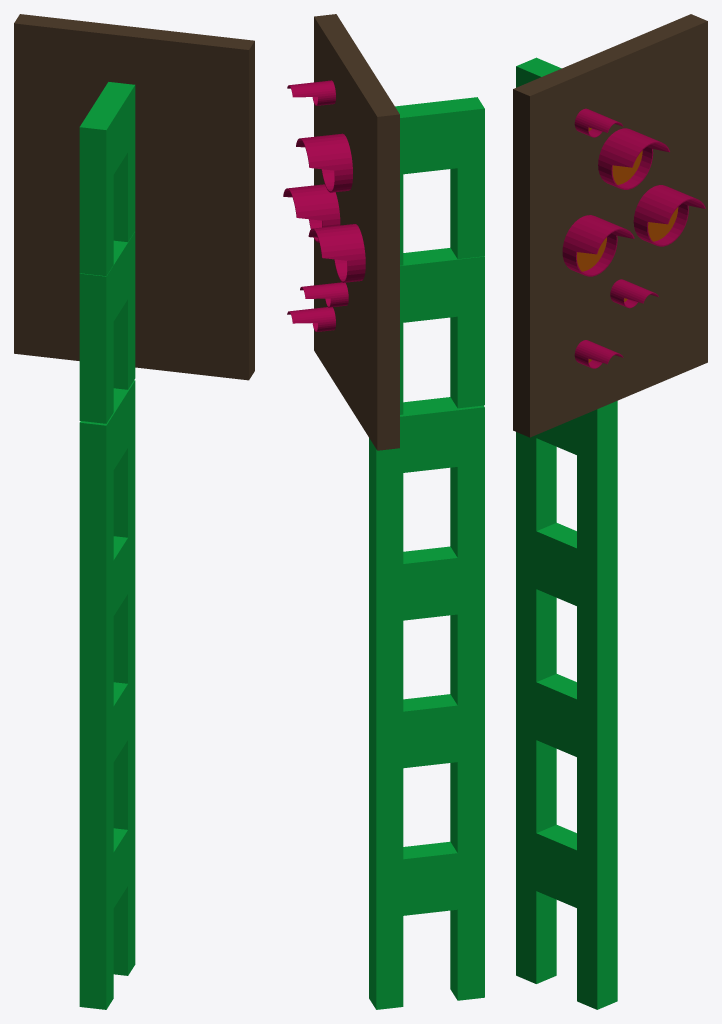
Rendered from advtrains_signals_ks_main_smr45.obj.
3 renders of one model, left to right at view 1: azimuth 30°, elevation 25°; view 2: azimuth 150°, elevation 25°; view 3: azimuth 270°, elevation 25°, orthographic. The views are drawn at different scales.
Visible parts, largest first — view 1: KsHauptsignal_Plane.006_Schirm, KsHauptsignal_Plane.006_Mast; view 2: KsHauptsignal_Plane.006_Mast, KsHauptsignal_Plane.006_Schirm, KsHauptsignal_Plane.006_Lampenrahmen; view 3: KsHauptsignal_Plane.006_Schirm, KsHauptsignal_Plane.006_Mast, KsHauptsignal_Plane.006_Lampenrahmen, KsHauptsignal_Plane.006_Lights.
Part boxes in pixels (bbox=[...]): KsHauptsignal_Plane.006_Schirm: bbox=[14, 14, 254, 380]; KsHauptsignal_Plane.006_Mast: bbox=[79, 82, 135, 1009]; KsHauptsignal_Plane.006_Mast: bbox=[369, 97, 484, 1009]; KsHauptsignal_Plane.006_Schirm: bbox=[314, 14, 399, 450]; KsHauptsignal_Plane.006_Lampenrahmen: bbox=[283, 80, 365, 331]; KsHauptsignal_Plane.006_Schirm: bbox=[513, 14, 707, 437]; KsHauptsignal_Plane.006_Mast: bbox=[516, 57, 617, 1009]; KsHauptsignal_Plane.006_Lampenrahmen: bbox=[562, 108, 705, 368]; KsHauptsignal_Plane.006_Lights: bbox=[577, 127, 678, 362].
Size of the model in its own units: 0.4087 by 2.1 by 0.3873.
